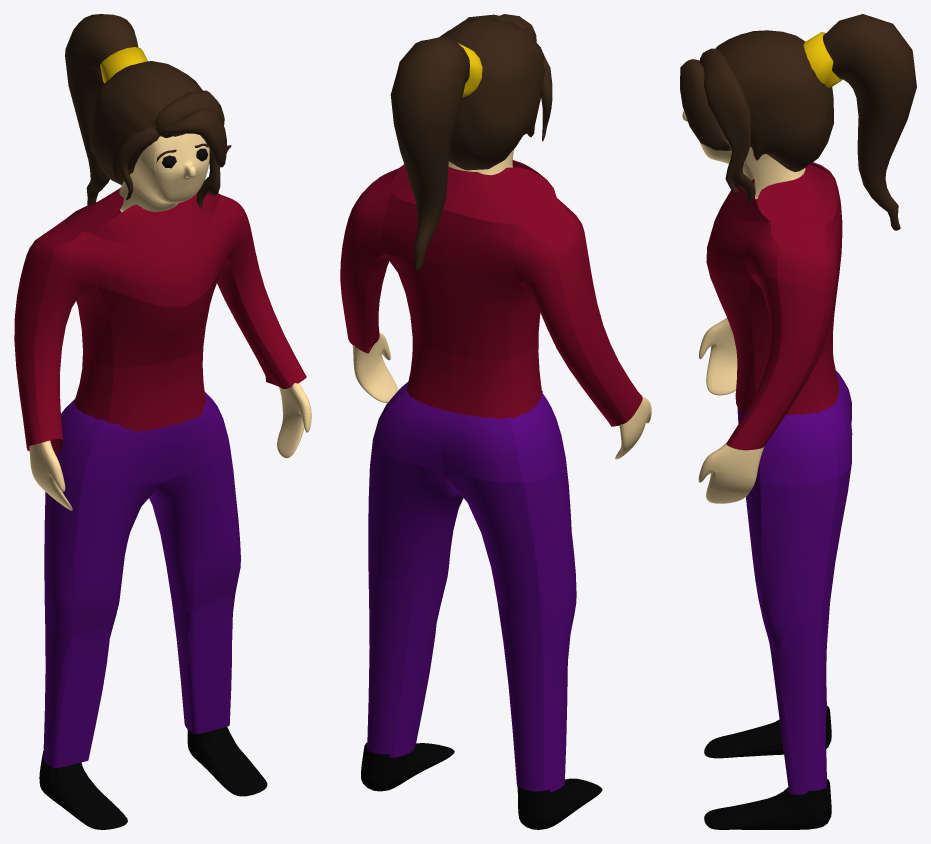
File: Personaje2.fbx
3 renders of one model, left to right at view 1: azimuth 30°, elevation 25°; view 2: azimuth 150°, elevation 25°; view 3: azimuth 270°, elevation 25°, orthographic. The views are drawn at different scales.
Visible parts, largest first — view 1: Camisa.001, Pantalon.001, Hair, Piel.001, Zapatos.001; view 2: Pantalon.001, Camisa.001, Hair, Zapatos.001, Piel.001; view 3: Hair, Camisa.001, Pantalon.001, Piel.001, Zapatos.001.
Boxes of the visible parts, x1=… form: Camisa.001: x1=14, y1=188, x2=306, y2=455; Pantalon.001: x1=43, y1=392, x2=240, y2=768; Hair: x1=65, y1=14, x2=231, y2=209; Piel.001: x1=29, y1=133, x2=311, y2=510; Zapatos.001: x1=39, y1=727, x2=267, y2=829; Pantalon.001: x1=367, y1=382, x2=576, y2=791; Camisa.001: x1=340, y1=160, x2=642, y2=426; Hair: x1=390, y1=14, x2=552, y2=270; Zapatos.001: x1=361, y1=742, x2=602, y2=829; Piel.001: x1=352, y1=97, x2=651, y2=459; Hair: x1=680, y1=14, x2=916, y2=230; Camisa.001: x1=706, y1=162, x2=842, y2=450; Pantalon.001: x1=737, y1=371, x2=852, y2=794; Piel.001: x1=682, y1=111, x2=805, y2=503; Zapatos.001: x1=704, y1=706, x2=831, y2=829.
Bounding box in the file's own units: 100 × 261 × 72.81.
